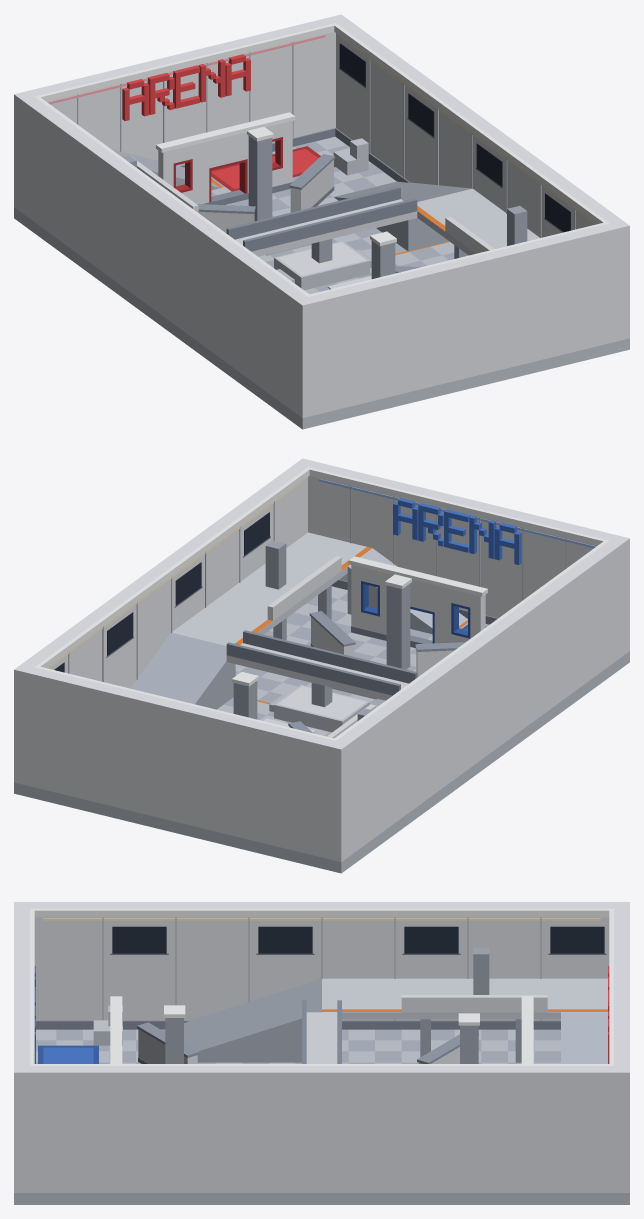
The model's file is arena.glb.
The picture shows the model from 3 angles, top to bottom: view 1: azimuth 30°, elevation 25°; view 2: azimuth 150°, elevation 25°; view 3: azimuth 270°, elevation 25°; orthographic projection. The views are drawn at different scales.
Parts seen in each view (by area): view 1: testarena_Walls_wall, testarena_Ground_floor, testarena_WallDetail_cap, testarena_Centre_rail, testarena_Gates_wall, testarena_Signs_red, testarena_Ledges_deck, testarena_Ledges_rampG, testarena_Cover_pillar, testarena_WallDetail_glass, testarena_Ground_floorB, testarena_Centre_catwalk (+14 smaller); view 2: testarena_Walls_wall, testarena_Ground_floor, testarena_WallDetail_cap, testarena_Ledges_deck, testarena_Ledges_rampG, testarena_Centre_rail, testarena_Gates_wall, testarena_Signs_blue, testarena_Cover_pillar, testarena_Ground_floorB, testarena_WallDetail_glass, testarena_Centre_catwalk (+11 smaller); view 3: testarena_Walls_wall, testarena_Ground_floor, testarena_Ledges_rampG, testarena_WallDetail_cap, testarena_Ledges_deck, testarena_WallDetail_glass, testarena_Ground_floorB, testarena_WallDetail_plinth, testarena_Ledges_parapet, testarena_Gates_cap, testarena_Lights_strip, testarena_Centre_catwalk (+10 smaller).
Part boxes in pixels (left/top/right/bottom): testarena_Walls_wall: left=14, top=14, right=629, bottom=418; testarena_Ground_floor: left=14, top=136, right=629, bottom=429; testarena_WallDetail_cap: left=35, top=23, right=608, bottom=296; testarena_Centre_rail: left=226, top=186, right=417, bottom=251; testarena_Gates_wall: left=158, top=121, right=292, bottom=203; testarena_Signs_red: left=122, top=54, right=250, bottom=120; testarena_Ledges_deck: left=417, top=189, right=539, bottom=255; testarena_Ledges_rampG: left=112, top=149, right=471, bottom=251; testarena_Cover_pillar: left=248, top=136, right=395, bottom=278; testarena_WallDetail_glass: left=339, top=43, right=570, bottom=232; testarena_Ground_floorB: left=211, top=141, right=468, bottom=291; testarena_Centre_catwalk: left=235, top=199, right=417, bottom=256; testarena_Walls_wall: left=14, top=458, right=629, bottom=862; testarena_Ground_floor: left=14, top=586, right=629, bottom=873; testarena_WallDetail_cap: left=35, top=467, right=608, bottom=740; testarena_Ledges_deck: left=172, top=532, right=369, bottom=645; testarena_Ledges_rampG: left=130, top=548, right=467, bottom=709; testarena_Centre_rail: left=226, top=630, right=417, bottom=695; testarena_Gates_wall: left=351, top=565, right=485, bottom=643; testarena_Signs_blue: left=393, top=498, right=521, bottom=564; testarena_Cover_pillar: left=233, top=583, right=410, bottom=719; testarena_Ground_floorB: left=224, top=593, right=489, bottom=736; testarena_WallDetail_glass: left=54, top=512, right=269, bottom=672; testarena_Centre_catwalk: left=226, top=643, right=408, bottom=700; testarena_Walls_wall: left=14, top=902, right=629, bottom=1192; testarena_Ground_floor: left=14, top=1029, right=629, bottom=1204; testarena_Ledges_rampG: left=163, top=979, right=607, bottom=1063; testarena_WallDetail_cap: left=30, top=908, right=613, bottom=1065; testarena_Ledges_deck: left=322, top=978, right=607, bottom=1019; testarena_WallDetail_glass: left=112, top=926, right=604, bottom=953; testarena_Ground_floorB: left=36, top=1029, right=560, bottom=1063; testarena_WallDetail_plinth: left=36, top=1020, right=560, bottom=1029; testarena_Ledges_parapet: left=401, top=995, right=547, bottom=1012; testarena_Gates_cap: left=110, top=996, right=533, bottom=1063; testarena_Lights_strip: left=43, top=918, right=600, bottom=920; testarena_Centre_catwalk: left=306, top=1012, right=337, bottom=1063.
Size of the model in its own units: 30.4 by 11 by 46.4.
